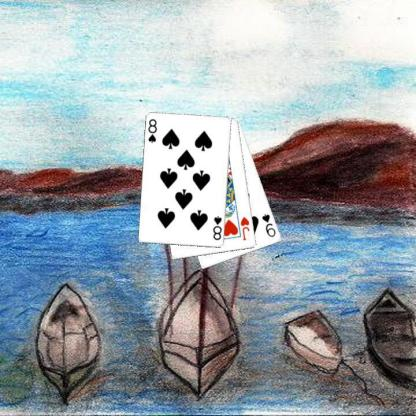8S: (210, 213, 223, 242), (146, 117, 158, 144)
9S: (259, 211, 277, 238)
JH: (238, 214, 251, 242)
